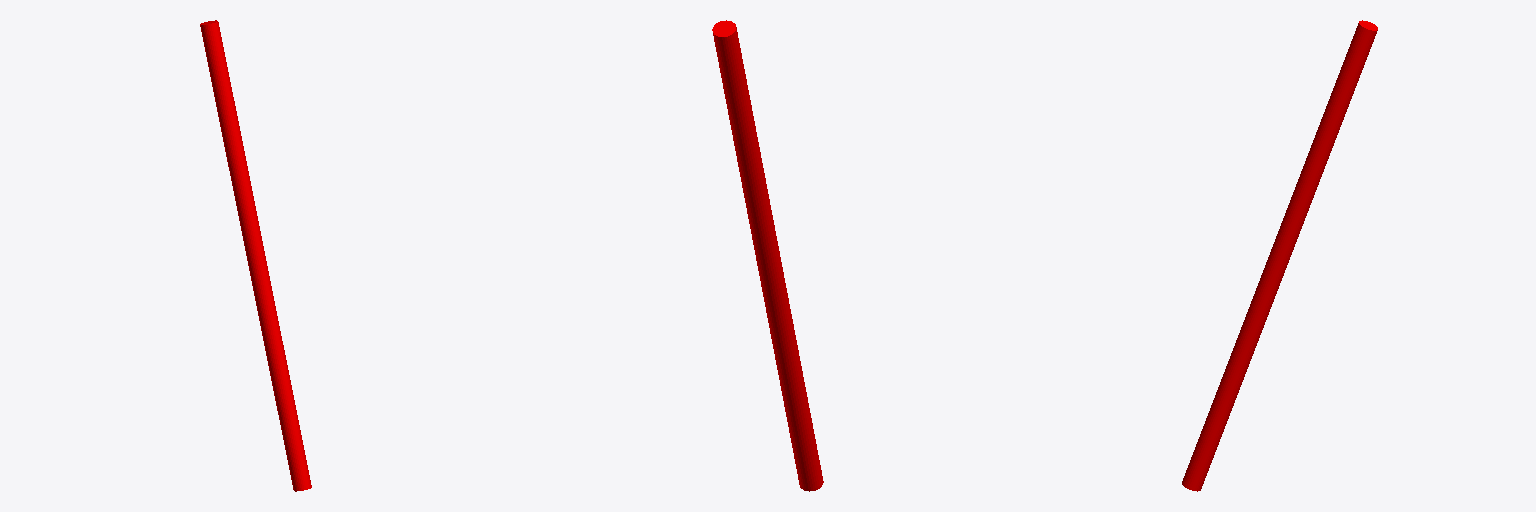
The robot description file, URDF, robot "tree_98.urdf":
<?xml version='1.0' encoding='utf-8'?>
<robot name="tree_98.urdf">
  <link name="branch_0">
    <inertial>
      <origin xyz="0.0 0.0 0.0" rpy="0.0 -0.0 0.0" />
      <mass value="1.0" />
      <inertia ixx="1.0" ixy="0.0" ixz="0.0" iyy="1.0" iyz="0.0" izz="1.0" />
    </inertial>
    <visual name="branch_0_visual">
      <geometry>
        <cylinder radius="0.0585253747280943" length="3.0137111418640923" />
      </geometry>
      <material name="semantic_material" />
      <origin xyz="-0.048346060740189885 0.502829105351101 1.4196616712694823" rpy="6.938893903907228e-18 0.3418526958715199 1.6666497757293144" />
    </visual>
    <collision name="branch_0_collision">
      <geometry>
        <cylinder radius="0.0585253747280943" length="3.0137111418640923" />
      </geometry>
      <origin xyz="-0.048346060740189885 0.502829105351101 1.4196616712694823" rpy="6.938893903907228e-18 0.3418526958715199 1.6666497757293144" />
    </collision>
  </link>
  <material name="semantic_material">
    <color rgba="1. 0. 0. 1." />
  </material>
</robot>

--- What the picture shows (computed from the rendered views, not written in the file) ---
The picture shows the robot from 3 angles, left to right: view 1: azimuth 30°, elevation 25°; view 2: azimuth 150°, elevation 25°; view 3: azimuth 270°, elevation 25°; orthographic projection.
Model tree_98.urdf with 1 links and 0 joints (none), rooted at branch_0, posed every joint at zero.
Links seen in each view (by area): view 1: branch_0; view 2: branch_0; view 3: branch_0.
Link boxes in pixels (x1,y1,x2,y2): branch_0: (200, 20, 311, 491); branch_0: (712, 20, 823, 491); branch_0: (1182, 20, 1377, 491).
Bounding box of the posed robot: 0.2132 × 1.12 × 2.88 m (x, y, z).
Geometry: primitives only (box / cylinder / sphere), no mesh files.